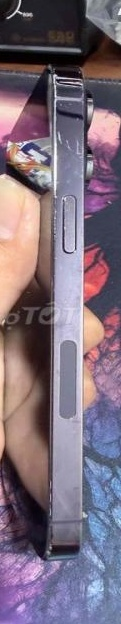scratch: (52, 186, 94, 272), (50, 113, 88, 188), (42, 470, 58, 565), (40, 61, 61, 106)
